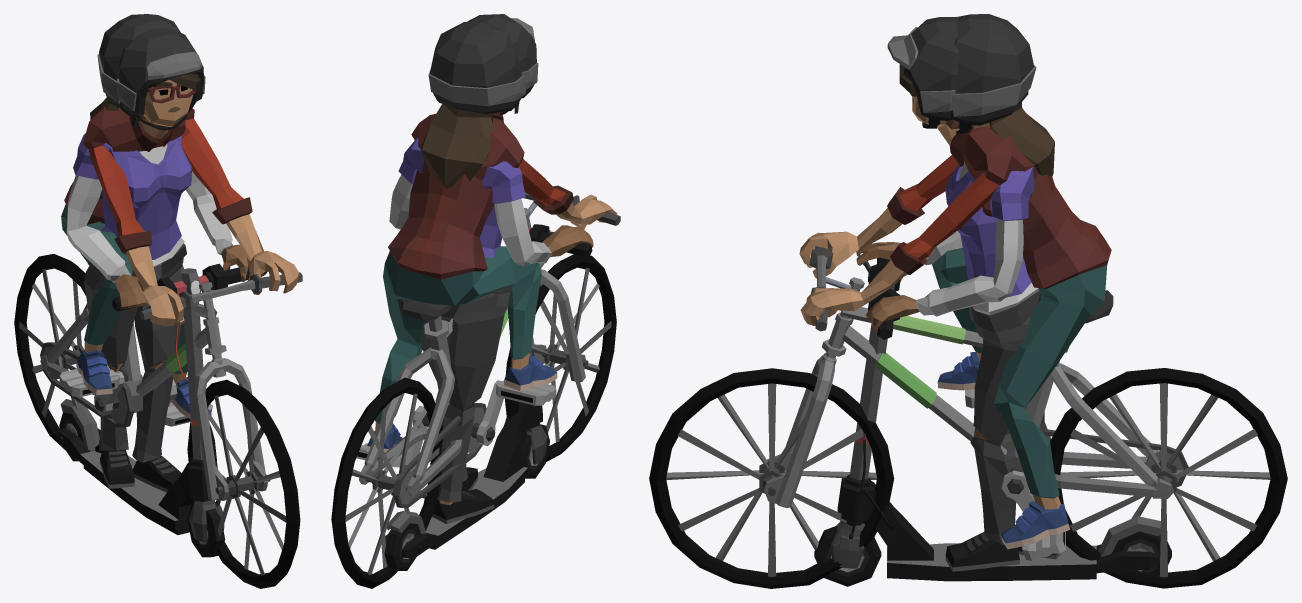
The model's file is micro-mobility-devices_v01.glb.
3 views of the same model, side by side, from view 1: azimuth 30°, elevation 25°; view 2: azimuth 150°, elevation 25°; view 3: azimuth 270°, elevation 25° (orthographic). The views are drawn at different scales.
Visible parts, largest first — view 1: Bicycle_1, ElectricScooter_1; view 2: Bicycle_1, ElectricScooter_1; view 3: Bicycle_1, ElectricScooter_1.
Part boxes in pixels (x1,y1,x2,y2): Bicycle_1: (14,28,302,588); ElectricScooter_1: (57,14,267,557); Bicycle_1: (331,14,620,588); ElectricScooter_1: (384,21,593,570); Bicycle_1: (649,16,1287,588); ElectricScooter_1: (814,14,1171,586).
Bounding box in the file's own units: 0.6885 × 1.98 × 2.02.
1 material, 1 textured.
